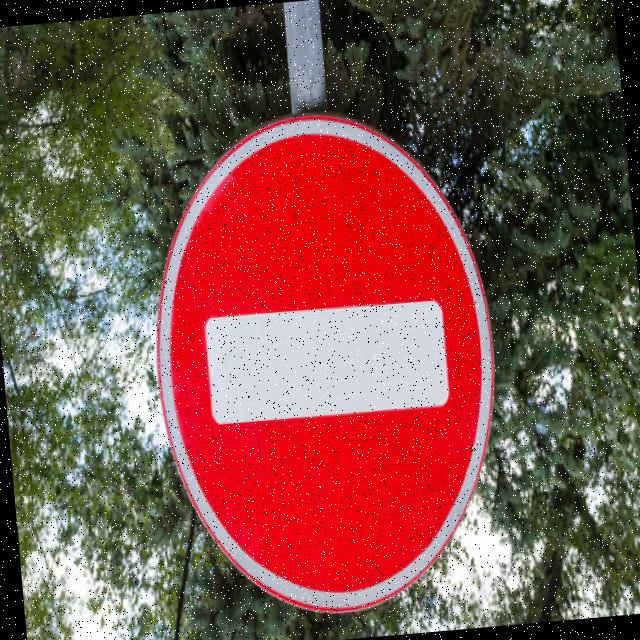do_not_enter: (134, 99, 518, 638)
